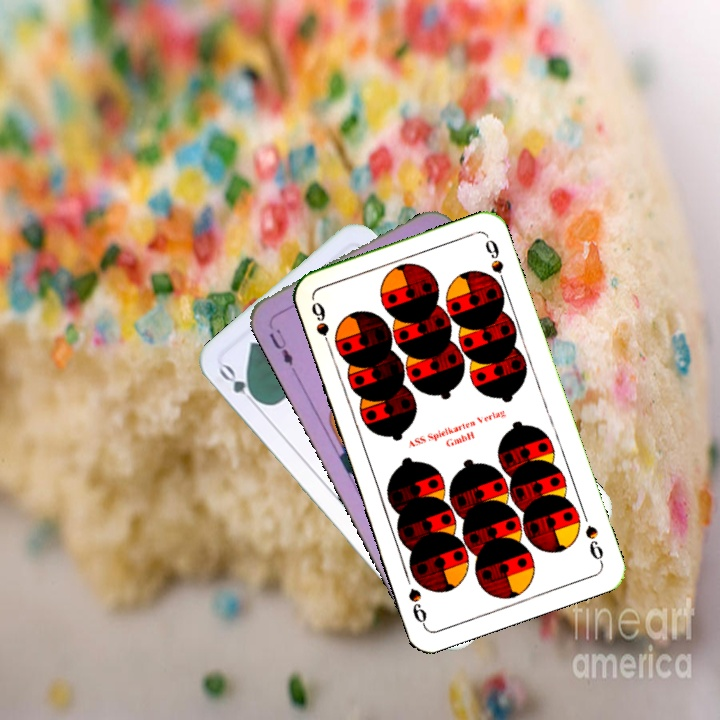EU: (265, 324, 298, 375)
GO: (215, 360, 265, 411)
S9: (307, 297, 334, 354), (581, 521, 606, 566)
